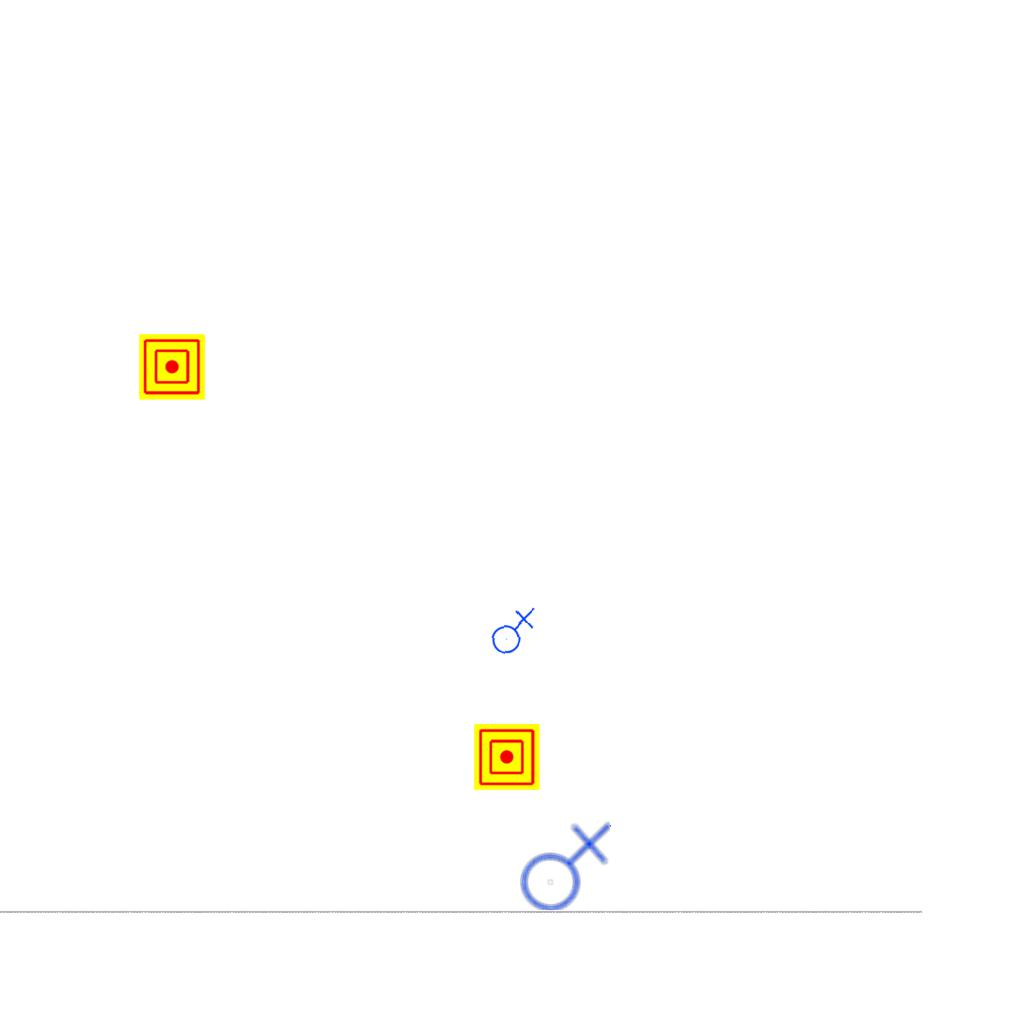Elektroanschluss_allgemein_230V_Geraeteanschlussdose_230V: (513, 818, 612, 912), (485, 605, 538, 656)
NAM-Nichtautomatischer_Melder: (139, 334, 205, 400), (474, 724, 540, 790)
